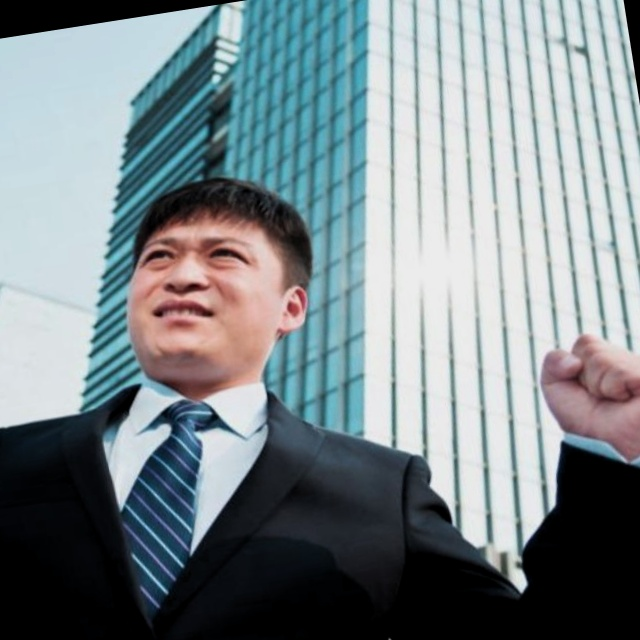Sin_Casco_Mascarrilla: (107, 167, 327, 386)
Sin_Chaleco: (0, 362, 428, 640)
